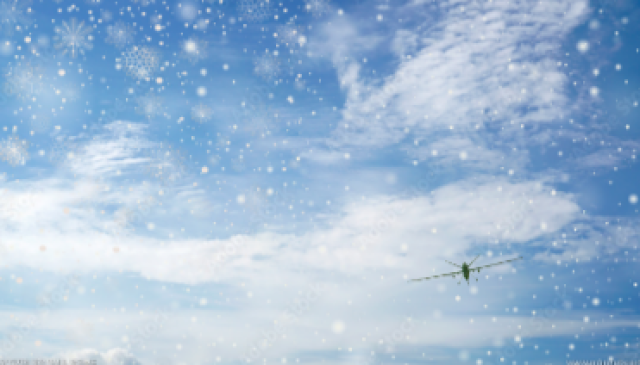military drone: (405, 253, 524, 285)
